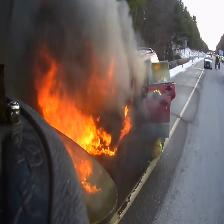fire: (35, 48, 132, 195)
